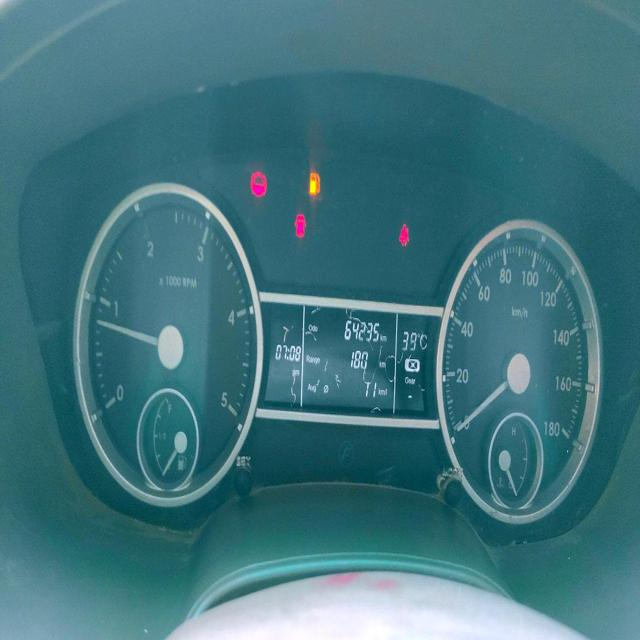odometer: (343, 317, 381, 343)
